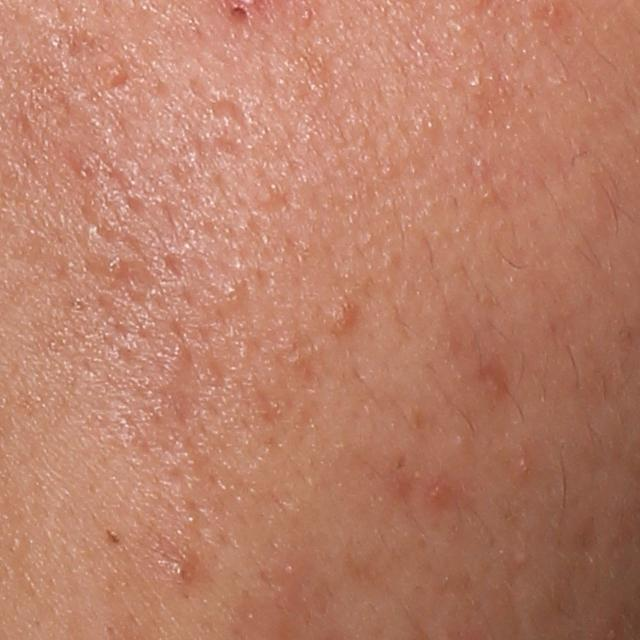atrophic_scar: (84, 253, 168, 312), (460, 356, 524, 404), (208, 94, 257, 135)
comedo: (224, 280, 244, 301), (453, 431, 472, 450), (511, 549, 531, 566)
papule: (330, 302, 360, 340), (425, 482, 452, 509)
